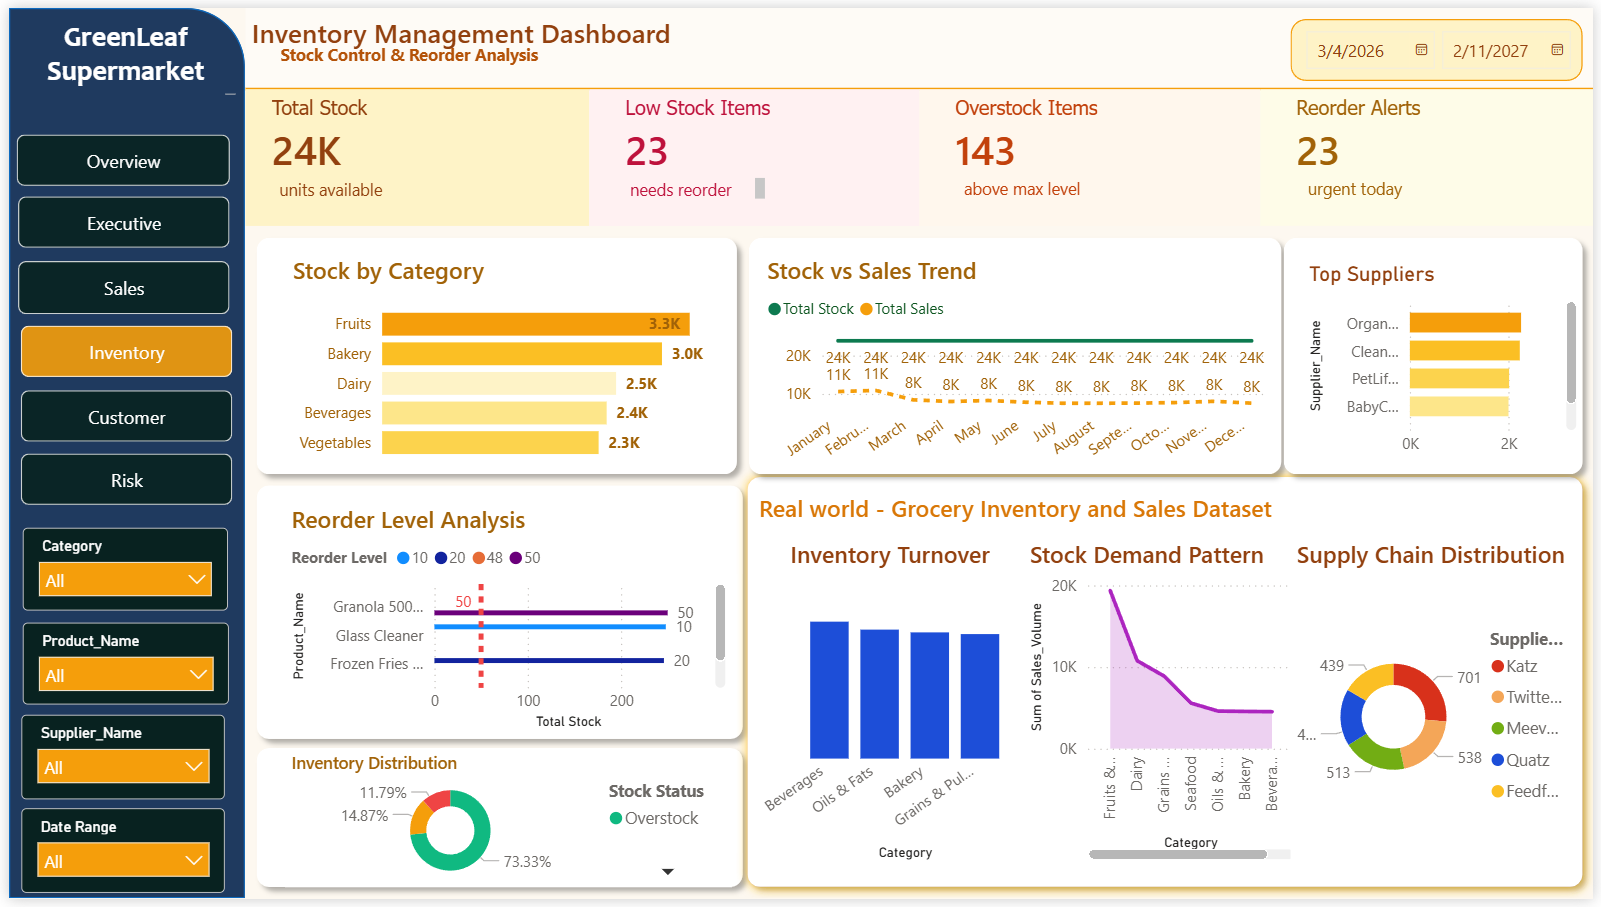

The page's visual inventory and layout, read from the dashboard file:
{"tool":"powerbi","page":{"name":"Inventory","canvas":[1280,720],"ordinal":3},"visuals":[{"type":"shape","box":[190.7,65.6,277.7,110.9],"z":0,"group":"g2"},{"type":"actionButton","box":[1.4,101.6,182.3,41.6],"z":0,"group":"g6"},{"type":"shape","box":[190.7,0,1089.6,68.7],"z":1000},{"type":"shape","box":[468.4,65.6,267,110.9],"z":1000,"group":"g2"},{"type":"actionButton","box":[2.8,151.8,180.9,41.6],"z":1000,"group":"g6"},{"type":"group","id":"g1","title":"Group 1","box":[190.7,0,375.8,64.5],"z":2000},{"type":"shape","box":[735.5,65.6,275.4,110.9],"z":2000,"group":"g2"},{"type":"actionButton","box":[2.8,203.4,180.9,43],"z":2000,"group":"g6"},{"type":"shape","box":[190.7,58.4,1089.5,13.1],"z":3000},{"type":"shape","box":[1010.8,65.6,269.4,110.9],"z":3000,"group":"g2"},{"type":"actionButton","box":[4.2,256.5,180.9,41.6],"z":3000,"group":"g6"},{"type":"shape","box":[1035.9,8.3,236,50.1],"z":4000},{"type":"actionButton","box":[4.2,308.1,180.9,41.6],"z":4000,"group":"g6"},{"type":"slicer","fields":{"Values":["Inventory_dataset.Expiry_Date"]},"box":[1035.9,8.3,233.6,48.9],"z":5000},{"type":"actionButton","box":[4.2,359.7,180.9,41.6],"z":5000,"group":"g6"},{"type":"group","id":"g2","title":"Group 2","box":[190.7,65.6,1089.5,110.9],"z":6000},{"type":"slicer","fields":{"Values":["Products_dataset.Category"]},"box":[10.9,419.1,165.7,67],"z":6000,"group":"g6"},{"type":"cardVisual","fields":{"Data":["Inventory_dataset.Total Stock"]},"box":[183.6,57.2,156.2,93],"z":7000},{"type":"slicer","fields":{"Values":["Grocery_Inventory_and_Sales_Dataset.Product_Name"]},"box":[10.9,495.9,166.9,65.8],"z":7000,"group":"g6"},{"type":"cardVisual","fields":{"Data":["Inventory_dataset.Low Stock Items"]},"box":[468.5,57.2,176.4,93],"z":8000},{"type":"slicer","fields":{"Values":["Suppliers_dataset.Supplier_Name"]},"box":[9.7,570.2,164.5,68.3],"z":8000,"group":"g6"},{"type":"textbox","title":"GreenLeaf Supermarket","box":[1.4,8.4,186.5,66],"z":9000,"group":"g6"},{"type":"cardVisual","fields":{"Data":["Customers_dataset.Overstock Items"]},"box":[735.5,57.2,176.4,93],"z":9000},{"type":"cardVisual","fields":{"Data":["Customers_dataset.Reorder Alerts"]},"box":[1010.8,57.2,176.4,93],"z":10000},{"type":"slicer","fields":{"Values":["Grocery_Inventory_and_Sales_Dataset.Date_Received"]},"box":[9.7,646.4,164.5,68.3],"z":10000,"group":"g6"},{"type":"textbox","box":[213.4,132.3,104.9,28.6],"z":11000},{"type":"textbox","box":[190.7,0,375.8,44.9],"z":12000,"group":"g1"},{"type":"textbox","box":[497.1,132.3,119.2,27.4],"z":12000},{"type":"textbox","box":[214.3,23.3,221.7,41.2],"z":13000,"group":"g1"},{"type":"textbox","box":[766.5,131.1,114.4,38.1],"z":13000},{"type":"textbox","box":[1044.2,131.1,88.2,31],"z":14000},{"type":"group","id":"g3","title":"Group 3","box":[190.7,377.2,410.9,342.2],"z":15000},{"type":"shape","box":[587.6,370.2,692.7,349.2],"z":16000},{"type":"textbox","box":[601.6,385.6,506.2,42.1],"z":17000},{"type":"group","id":"g4","title":"Group 5","box":[601.6,427.7,668.9,265.5],"z":18000},{"type":"group","id":"g5","title":"Group 4","box":[190.7,176.7,1089.6,208.9],"z":19000},{"type":"shape","box":[0,0,190.7,719.4],"z":20000},{"type":"group","id":"g6","title":"Group 7","box":[1.4,8.4,186.5,705.3],"z":21000},{"type":"shape","box":[190.7,176.7,406.1,208.9],"z":26000,"group":"g5"},{"type":"shape","box":[588.1,176.7,448.2,208.9],"z":27000,"group":"g5"},{"type":"shape","box":[1020.8,176.7,259.4,208.9],"z":28000,"group":"g5"},{"type":"shape","box":[190.7,377.2,410.9,223],"z":28000,"group":"g7"},{"type":"clusteredBarChart","title":"Top Suppliers","fields":{"Category":["Suppliers_dataset.Supplier_Name"],"Y":["Inventory_dataset.Total Stock"]},"box":[1044.7,204.7,225.8,165.5],"z":29000,"group":"g5"},{"type":"shape","box":[190.7,588.9,410.9,130.4],"z":29000,"group":"g7"},{"type":"clusteredBarChart","title":"Stock by Category","fields":{"Category":["Products_dataset.Category"],"Y":["Inventory_dataset.Total Stock"]},"box":[224.1,199.1,355.3,176.7],"z":30000,"group":"g5"},{"type":"lineChart","title":"Stock vs Sales Trend","fields":{"Y":["Inventory_dataset.Total Stock","Customers_dataset.Total Sales"],"Category":["Sales_dataset.Date.Variation.Date Hierarchy.Month","Sales_dataset.Date.Variation.Date Hierarchy.Day"]},"box":[607,199.1,413.4,176.7],"z":31000,"group":"g5"},{"type":"donutChart","title":"Inventory Distribution","fields":{"Category":["Inventory_dataset.Stock Status"],"Y":["CountNonNull(Inventory_dataset.Stock Status)"]},"box":[223,600.2,360.4,110.8],"z":32000,"group":"g7"},{"type":"clusteredBarChart","title":"Reorder Level Analysis","fields":{"Category":["Products_dataset.Product_Name"],"Y":["Inventory_dataset.Total Stock"],"Series":["Inventory_dataset.Reorder_Level"]},"box":[223,401,360.4,187.9],"z":33000,"group":"g7"},{"type":"clusteredColumnChart","title":"Inventory Turnover ","fields":{"Category":["Grocery_Inventory_and_Sales_Dataset.Category"],"Y":["Grocery_Inventory_and_Sales_Dataset.GI Turnover"]},"box":[601.6,427.7,221.6,265],"z":33000,"group":"g4"},{"type":"stackedAreaChart","title":"Stock Demand Pattern","fields":{"Category":["Grocery_Inventory_and_Sales_Dataset.Category"],"Y":["Sum(Grocery_Inventory_and_Sales_Dataset.Sales_Volume)"]},"box":[820.9,428.1,223,265],"z":34000,"group":"g4"},{"type":"donutChart","title":"Supply Chain Distribution","fields":{"Category":["Grocery_Inventory_and_Sales_Dataset.Supplier_Name"],"Y":["Grocery_Inventory_and_Sales_Dataset.GI Total Stock"]},"box":[1036.3,427.7,234.2,265],"z":35000,"group":"g4"},{"type":"group","id":"g7","title":"Group 6","box":[190.7,377.2,410.9,342.2],"z":35002,"group":"g3"}]}

Visuals, with their boxes in screenshot pixels (x1, y1, x2, y2), scaled from the page's 1280x720 canvas onto the 1601x907 screenshot:
shape: rect(239, 83, 586, 222)
actionButton: rect(2, 128, 230, 180)
shape: rect(239, 0, 1600, 87)
shape: rect(586, 83, 920, 222)
actionButton: rect(4, 191, 230, 244)
"Group 1" group: rect(239, 0, 709, 81)
shape: rect(920, 83, 1264, 222)
actionButton: rect(4, 256, 230, 310)
shape: rect(239, 74, 1600, 90)
shape: rect(1264, 83, 1600, 222)
actionButton: rect(5, 323, 232, 376)
shape: rect(1296, 10, 1591, 74)
actionButton: rect(5, 388, 232, 441)
slicer - Inventory_dataset.Expiry_Date: rect(1296, 10, 1588, 72)
actionButton: rect(5, 453, 232, 506)
"Group 2" group: rect(239, 83, 1600, 222)
slicer - Products_dataset.Category: rect(14, 528, 221, 612)
cardVisual - Inventory_dataset.Total Stock: rect(230, 72, 425, 189)
slicer - Grocery_Inventory_and_Sales_Dataset.Product_Name: rect(14, 625, 222, 708)
cardVisual - Inventory_dataset.Low Stock Items: rect(586, 72, 807, 189)
slicer - Suppliers_dataset.Supplier_Name: rect(12, 718, 218, 804)
"GreenLeaf Supermarket" textbox: rect(2, 11, 235, 94)
cardVisual - Customers_dataset.Overstock Items: rect(920, 72, 1141, 189)
cardVisual - Customers_dataset.Reorder Alerts: rect(1264, 72, 1485, 189)
slicer - Grocery_Inventory_and_Sales_Dataset.Date_Received: rect(12, 814, 218, 900)
textbox: rect(267, 167, 398, 203)
textbox: rect(239, 0, 709, 57)
textbox: rect(622, 167, 771, 201)
textbox: rect(268, 29, 545, 81)
textbox: rect(959, 165, 1102, 213)
textbox: rect(1306, 165, 1416, 204)
"Group 3" group: rect(239, 475, 752, 906)
shape: rect(735, 466, 1600, 906)
textbox: rect(752, 486, 1386, 539)
"Group 5" group: rect(752, 539, 1589, 873)
"Group 4" group: rect(239, 223, 1600, 486)
shape: rect(0, 0, 239, 906)
"Group 7" group: rect(2, 11, 235, 899)
shape: rect(239, 223, 746, 486)
shape: rect(736, 223, 1296, 486)
shape: rect(1277, 223, 1600, 486)
shape: rect(239, 475, 752, 756)
"Top Suppliers" clusteredBarChart: rect(1307, 258, 1589, 466)
shape: rect(239, 742, 752, 906)
"Stock by Category" clusteredBarChart: rect(280, 251, 725, 473)
"Stock vs Sales Trend" lineChart: rect(759, 251, 1276, 473)
"Inventory Distribution" donutChart: rect(279, 756, 730, 896)
"Reorder Level Analysis" clusteredBarChart: rect(279, 505, 730, 742)
"Inventory Turnover " clusteredColumnChart: rect(752, 539, 1030, 873)
"Stock Demand Pattern" stackedAreaChart: rect(1027, 539, 1306, 873)
"Supply Chain Distribution" donutChart: rect(1296, 539, 1589, 873)
"Group 6" group: rect(239, 475, 752, 906)
